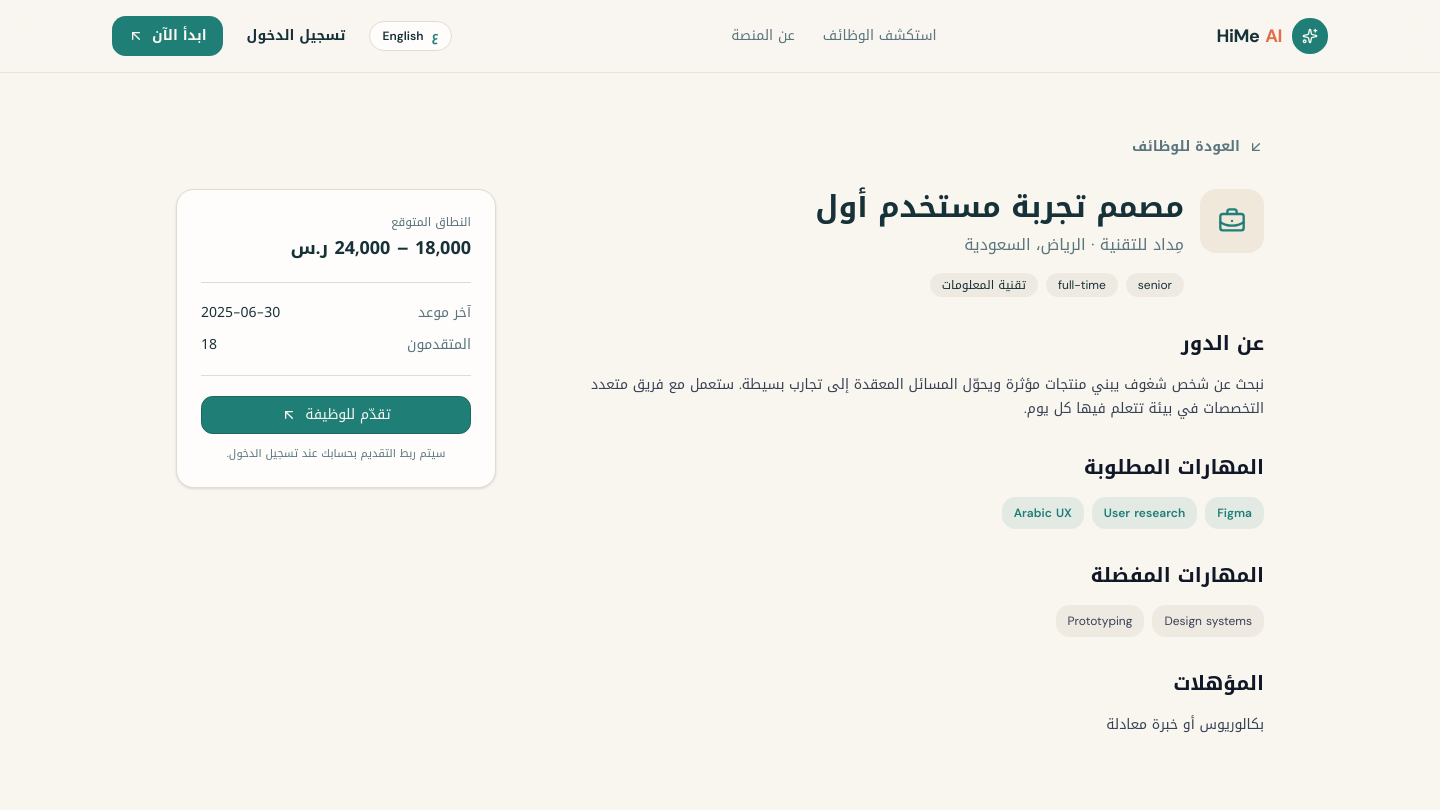
it: application and candidate review flows › confirms a successful application
Step 1. Click the button with test id "button-apply-job" → (336, 415), box [201, 396, 471, 434]
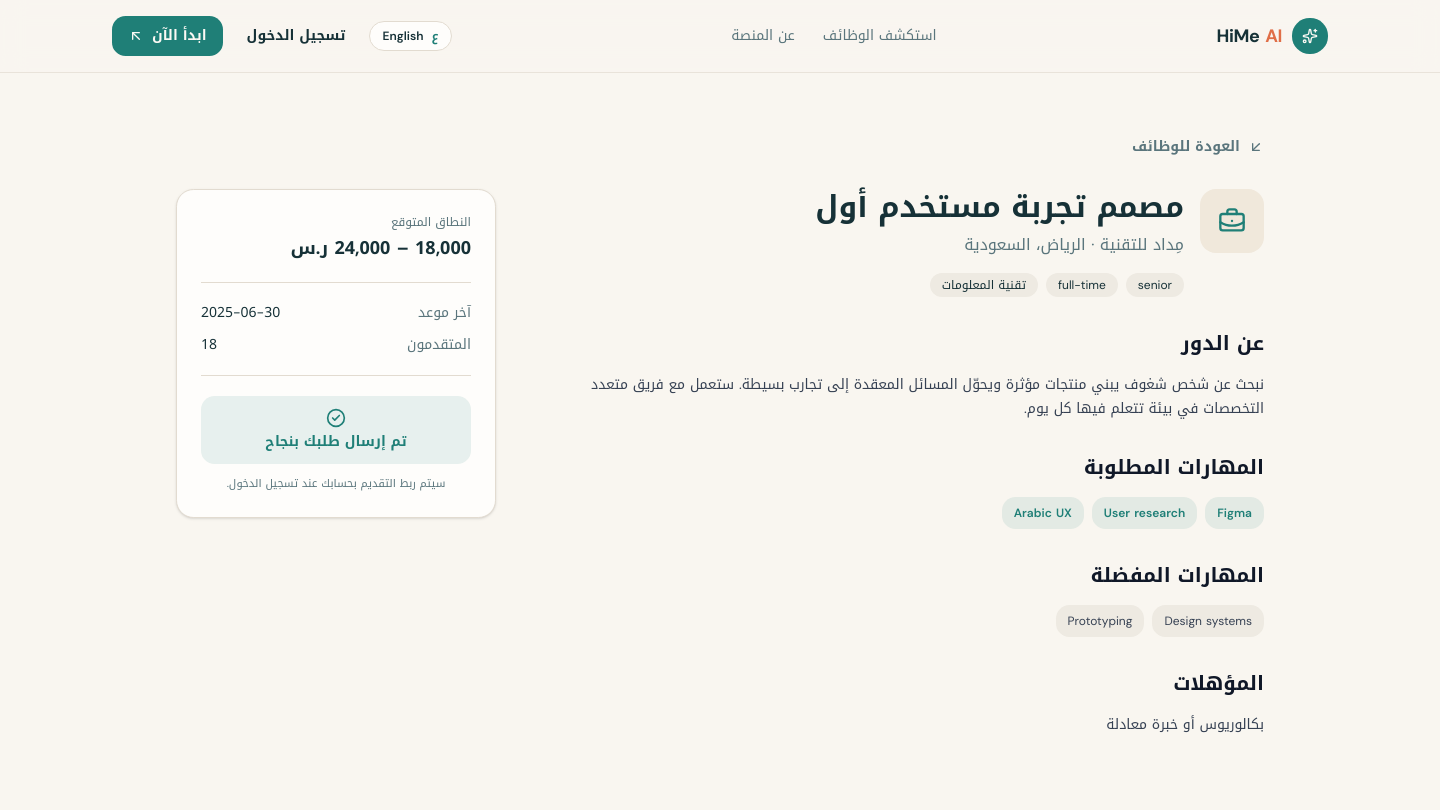
expect the message "تم إرسال طلبك بنجاح" is shown: met, box [201, 396, 471, 464]
